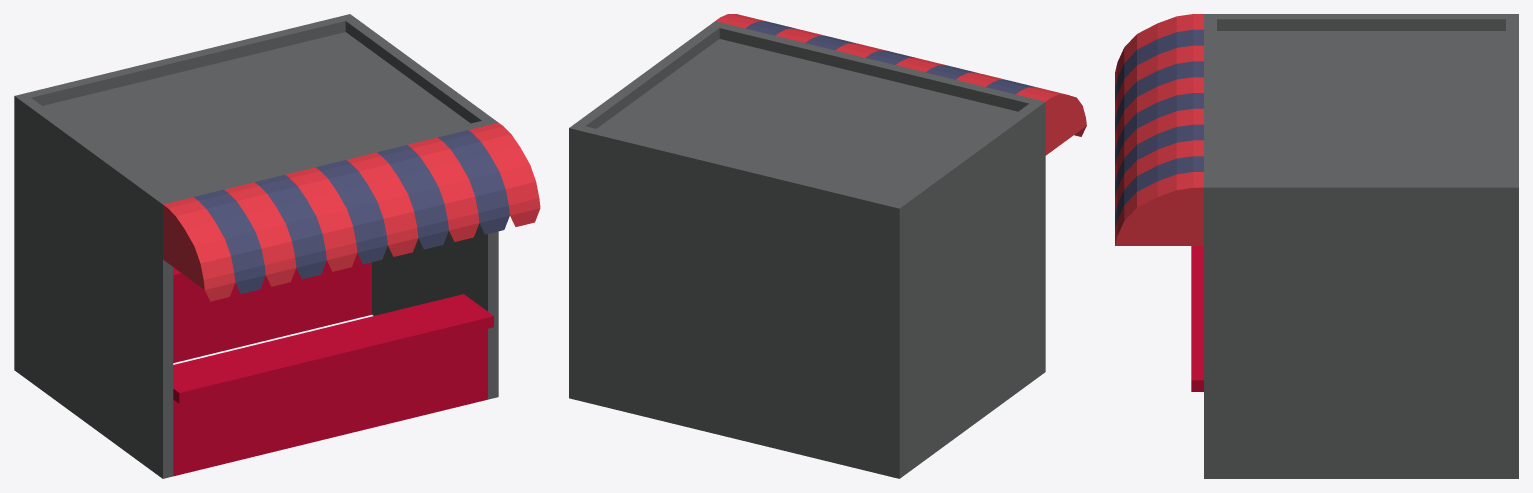
The model's file is SM Tembakan.fbx.
3 views of the same model, side by side, from view 1: azimuth 30°, elevation 25°; view 2: azimuth 150°, elevation 25°; view 3: azimuth 270°, elevation 25° (orthographic). The views are drawn at different scales.
Visible parts, largest first — view 1: Stand Mainan Tembak Tembakan; view 2: Stand Mainan Tembak Tembakan; view 3: Stand Mainan Tembak Tembakan.
Boxes of the visible parts, bbox=[...] form: Stand Mainan Tembak Tembakan: bbox=[14, 14, 540, 478]; Stand Mainan Tembak Tembakan: bbox=[569, 14, 1086, 478]; Stand Mainan Tembak Tembakan: bbox=[1115, 14, 1518, 478].
Bounding box in the file's own units: 320 × 250 × 314.
